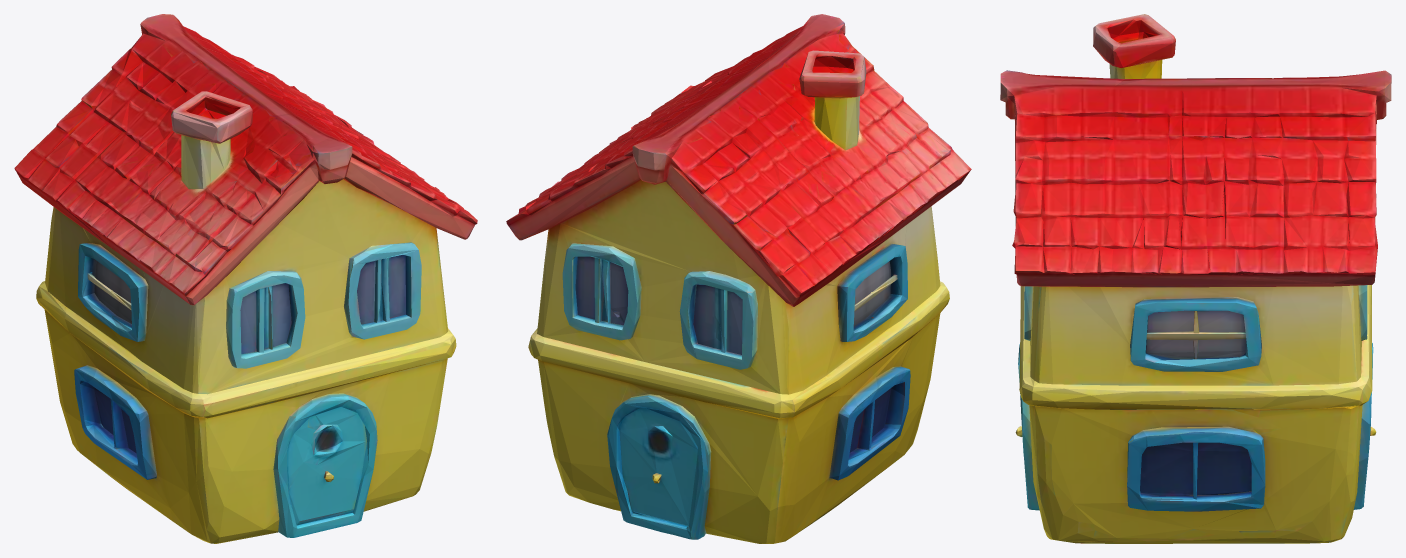
File: b-house3.glb
3 renders of one model, left to right at view 1: azimuth 30°, elevation 25°; view 2: azimuth 150°, elevation 25°; view 3: azimuth 270°, elevation 25°, orthographic. The views are drawn at different scales.
Visible parts, largest first — view 1: geometry_0; view 2: geometry_0; view 3: geometry_0.
Boxes of the visible parts, bbox=[...] form: geometry_0: bbox=[14, 14, 477, 543]; geometry_0: bbox=[506, 14, 971, 543]; geometry_0: bbox=[1000, 14, 1391, 543].
Size of the model in its own units: 0.7707 by 0.997 by 0.8256.
Materials: 1 (1 with a texture image).
